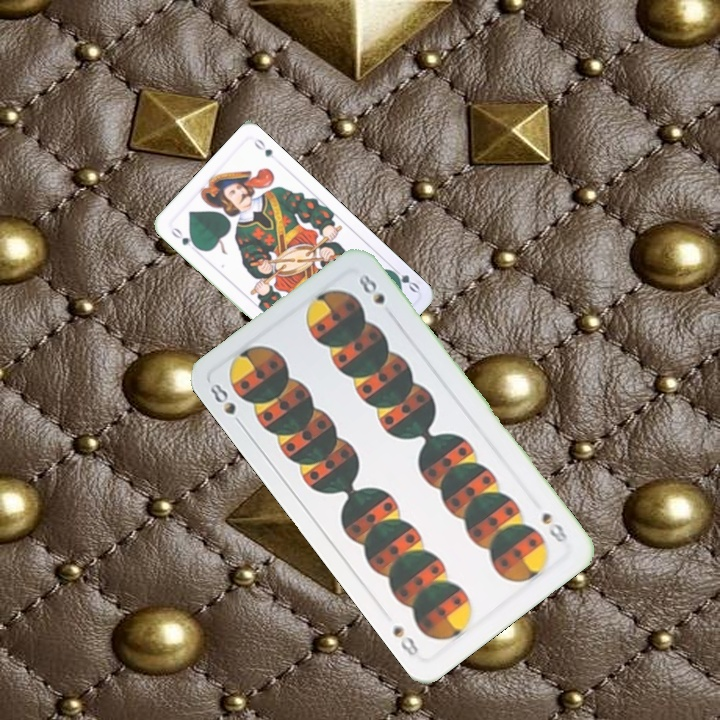GO: (386, 262, 422, 295), (167, 223, 201, 252)
S8: (206, 379, 247, 431), (537, 508, 571, 546)
